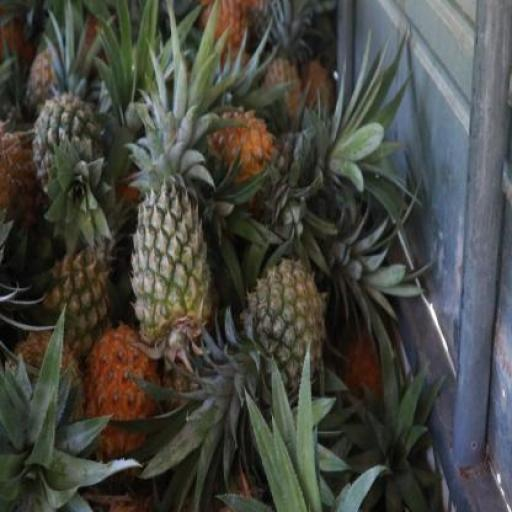Pineapple - v8 v1: (81, 318, 155, 466), (200, 101, 279, 183)
